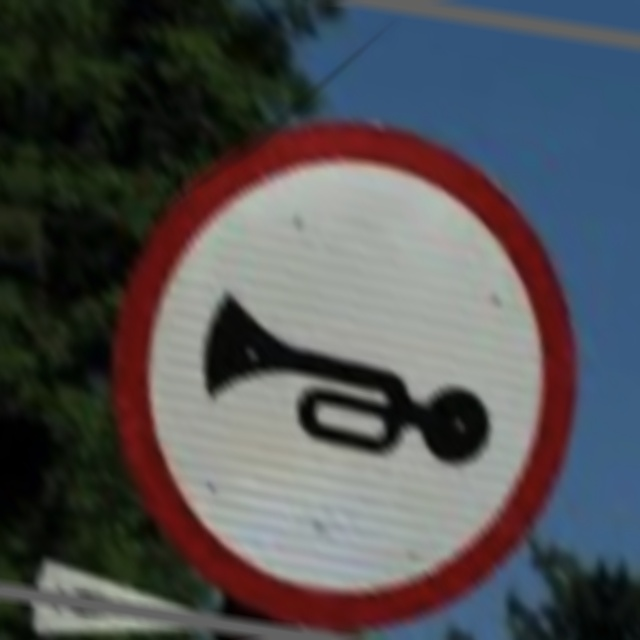Compulsory_Sound_Horn: (93, 103, 595, 620)
